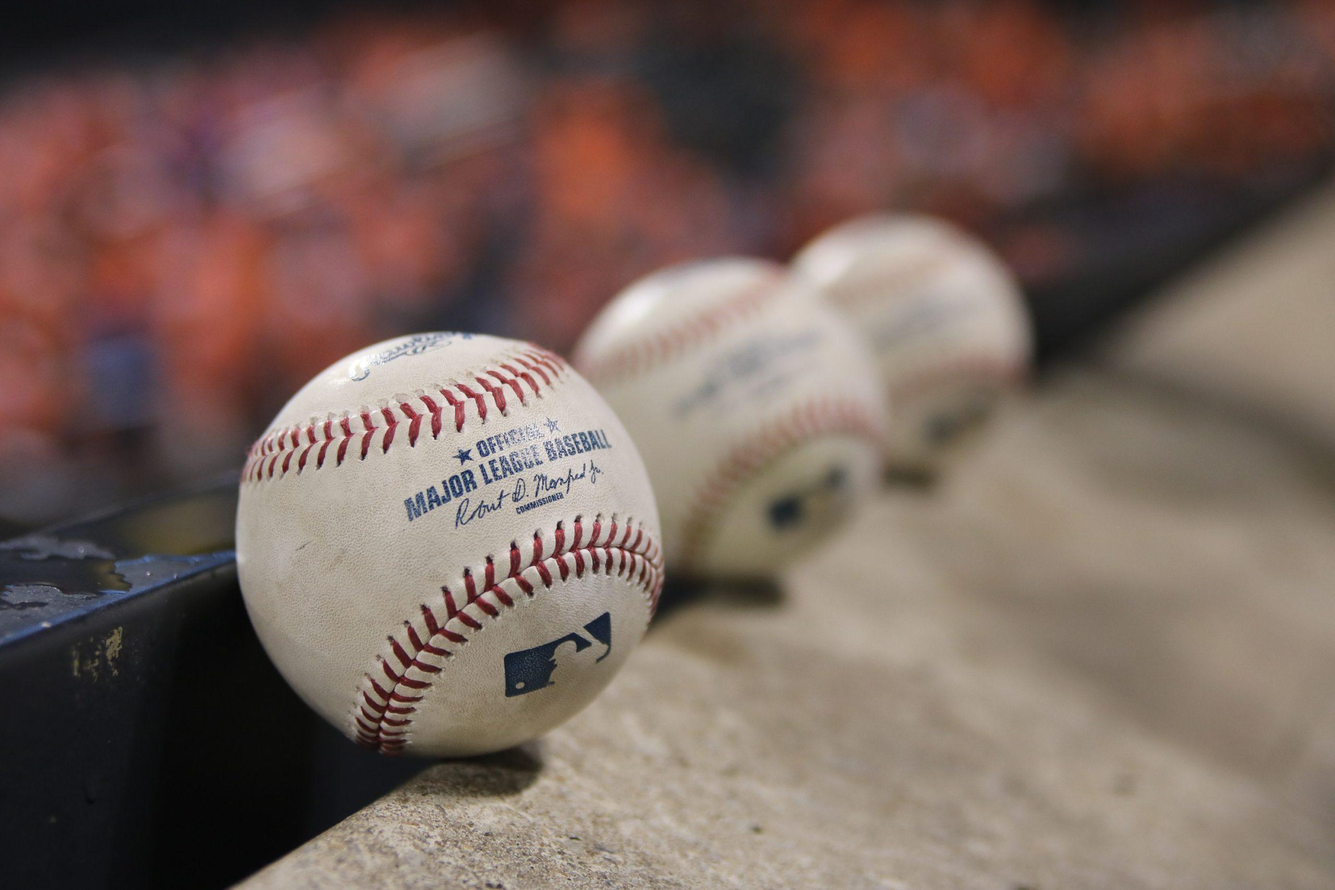baseball: (232, 328, 665, 761), (572, 255, 893, 590), (794, 210, 1033, 487)
